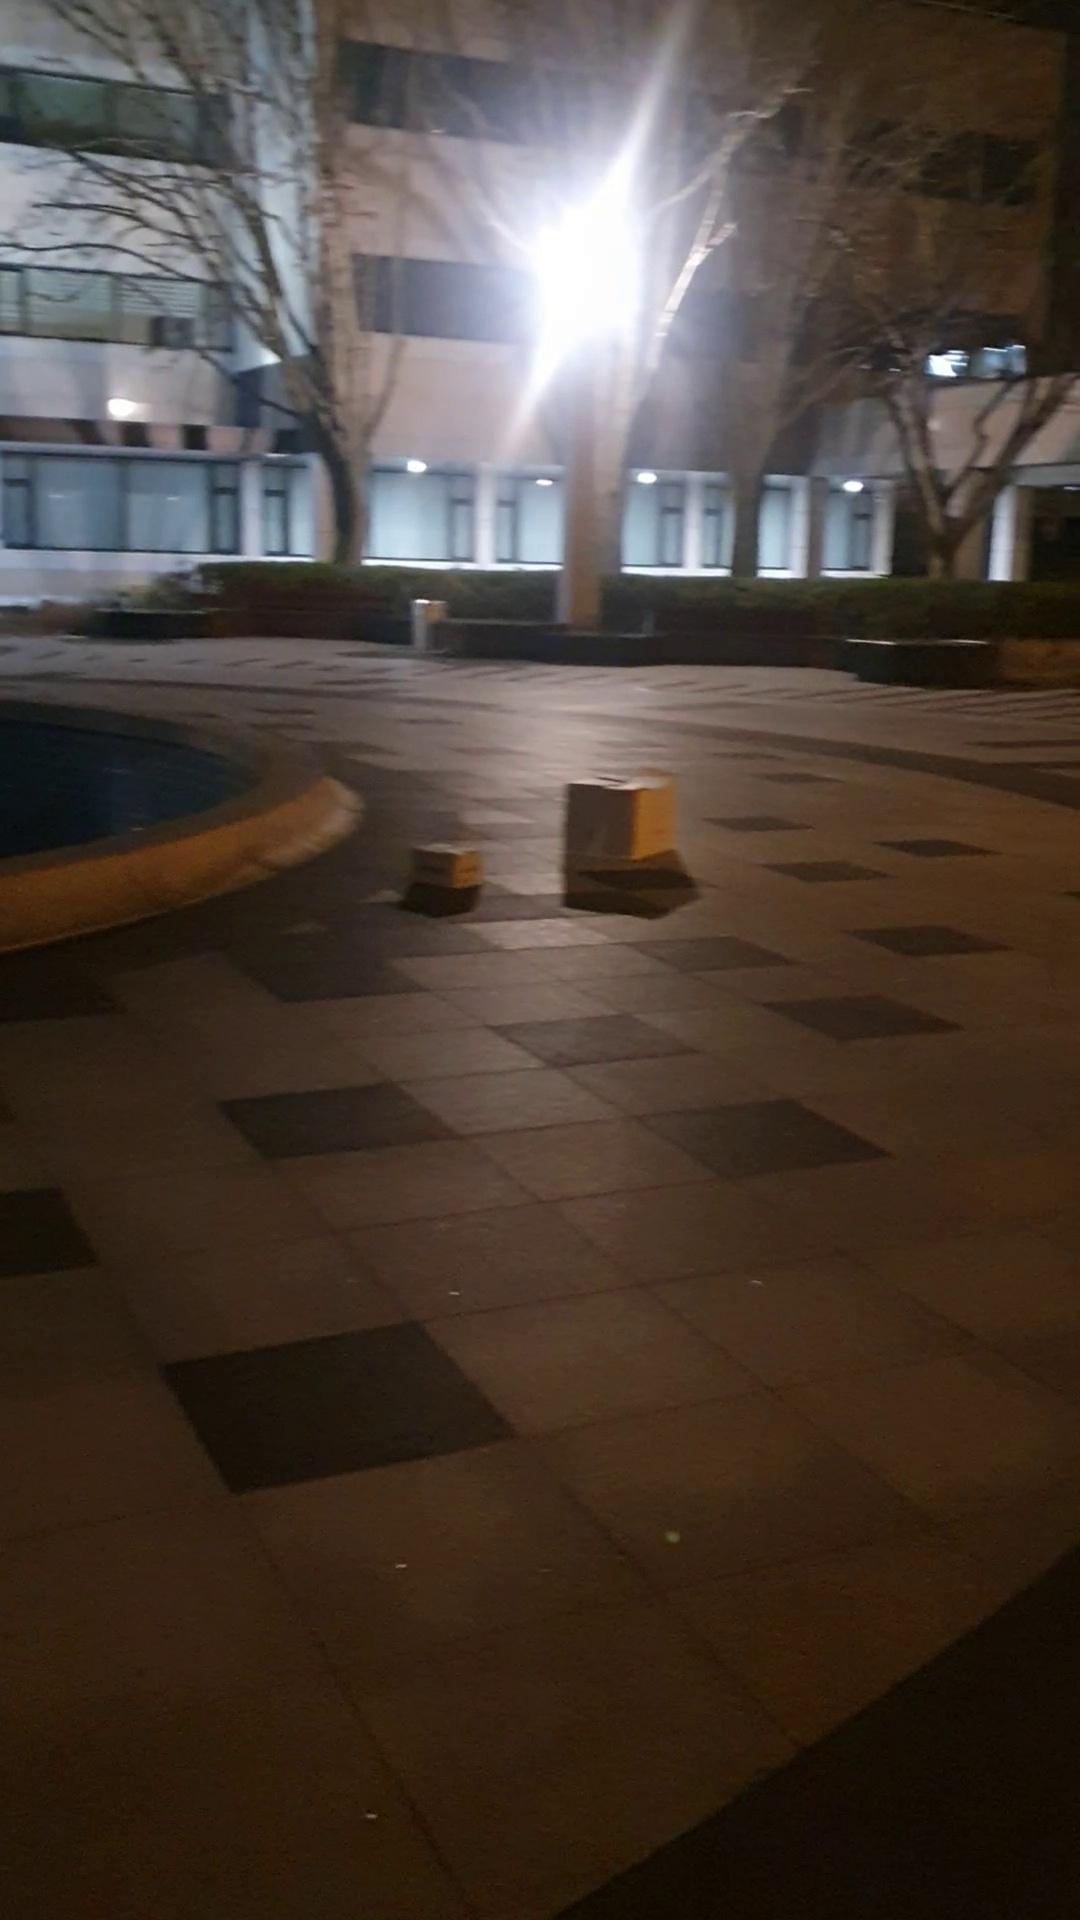Box: (560, 758, 675, 873), (411, 833, 480, 898)
